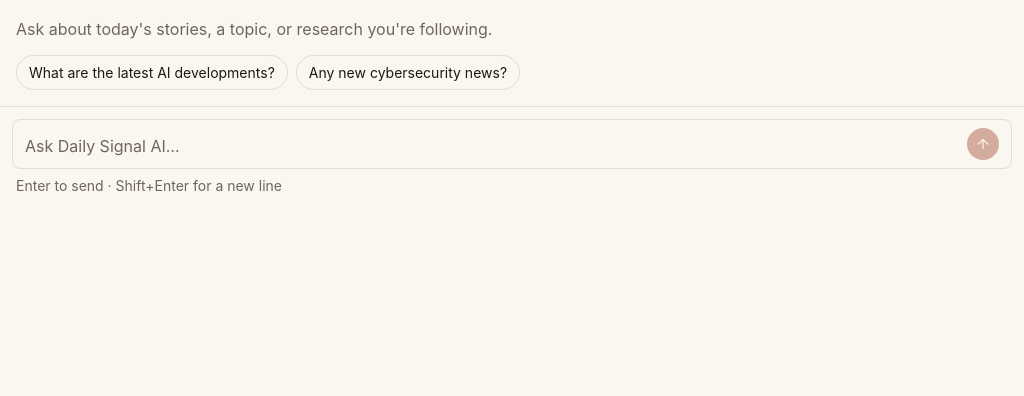
it: sending and rendering answers › streams an answer with markdown, citations and sources
In the text box named "Message Daily Signal AI": point(492, 147) 25,133 -> 959,160, type "What changed?"
Then press Enter
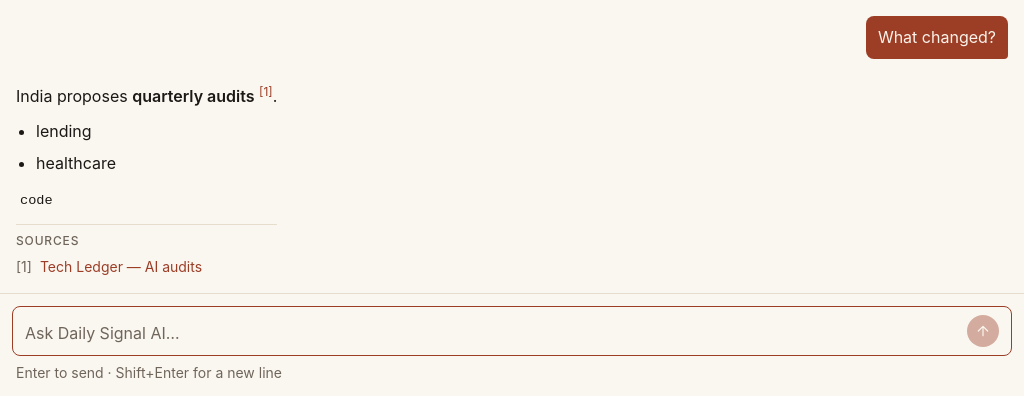
Result: the list item "lending" is shown at 36,121 -> 92,141
Result: the list item "[1] Tech Ledger — AI audits" is shown at 16,256 -> 277,277
